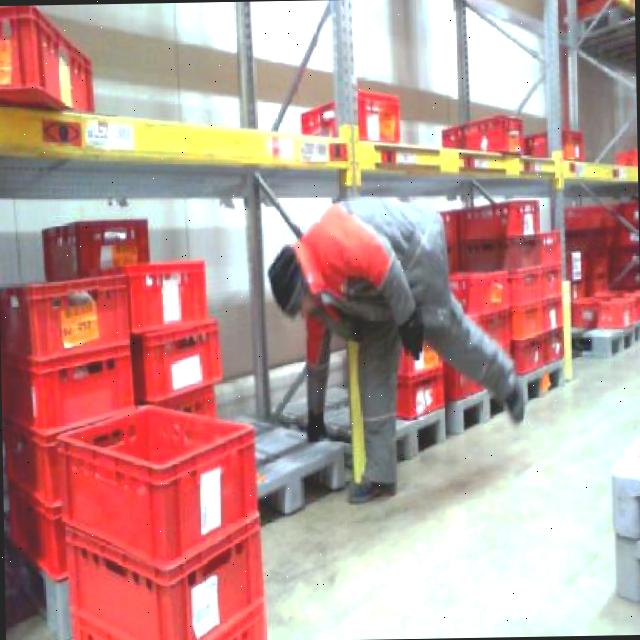ground: (0, 314, 640, 640)
pallet: (0, 249, 269, 640), (436, 197, 567, 433), (559, 0, 639, 359), (0, 4, 106, 150), (438, 93, 590, 186), (289, 60, 414, 167), (562, 194, 639, 357), (253, 433, 346, 515)
